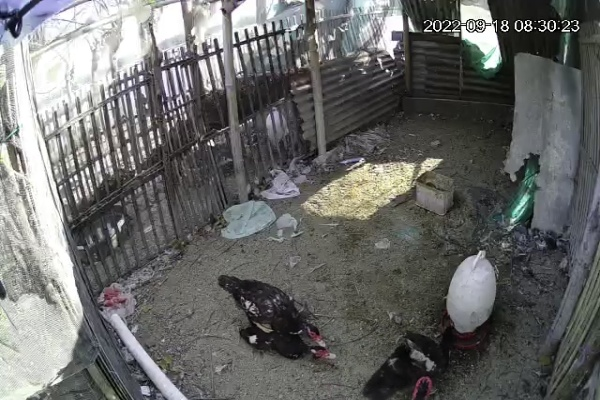Kawin: (211, 267, 339, 371)
